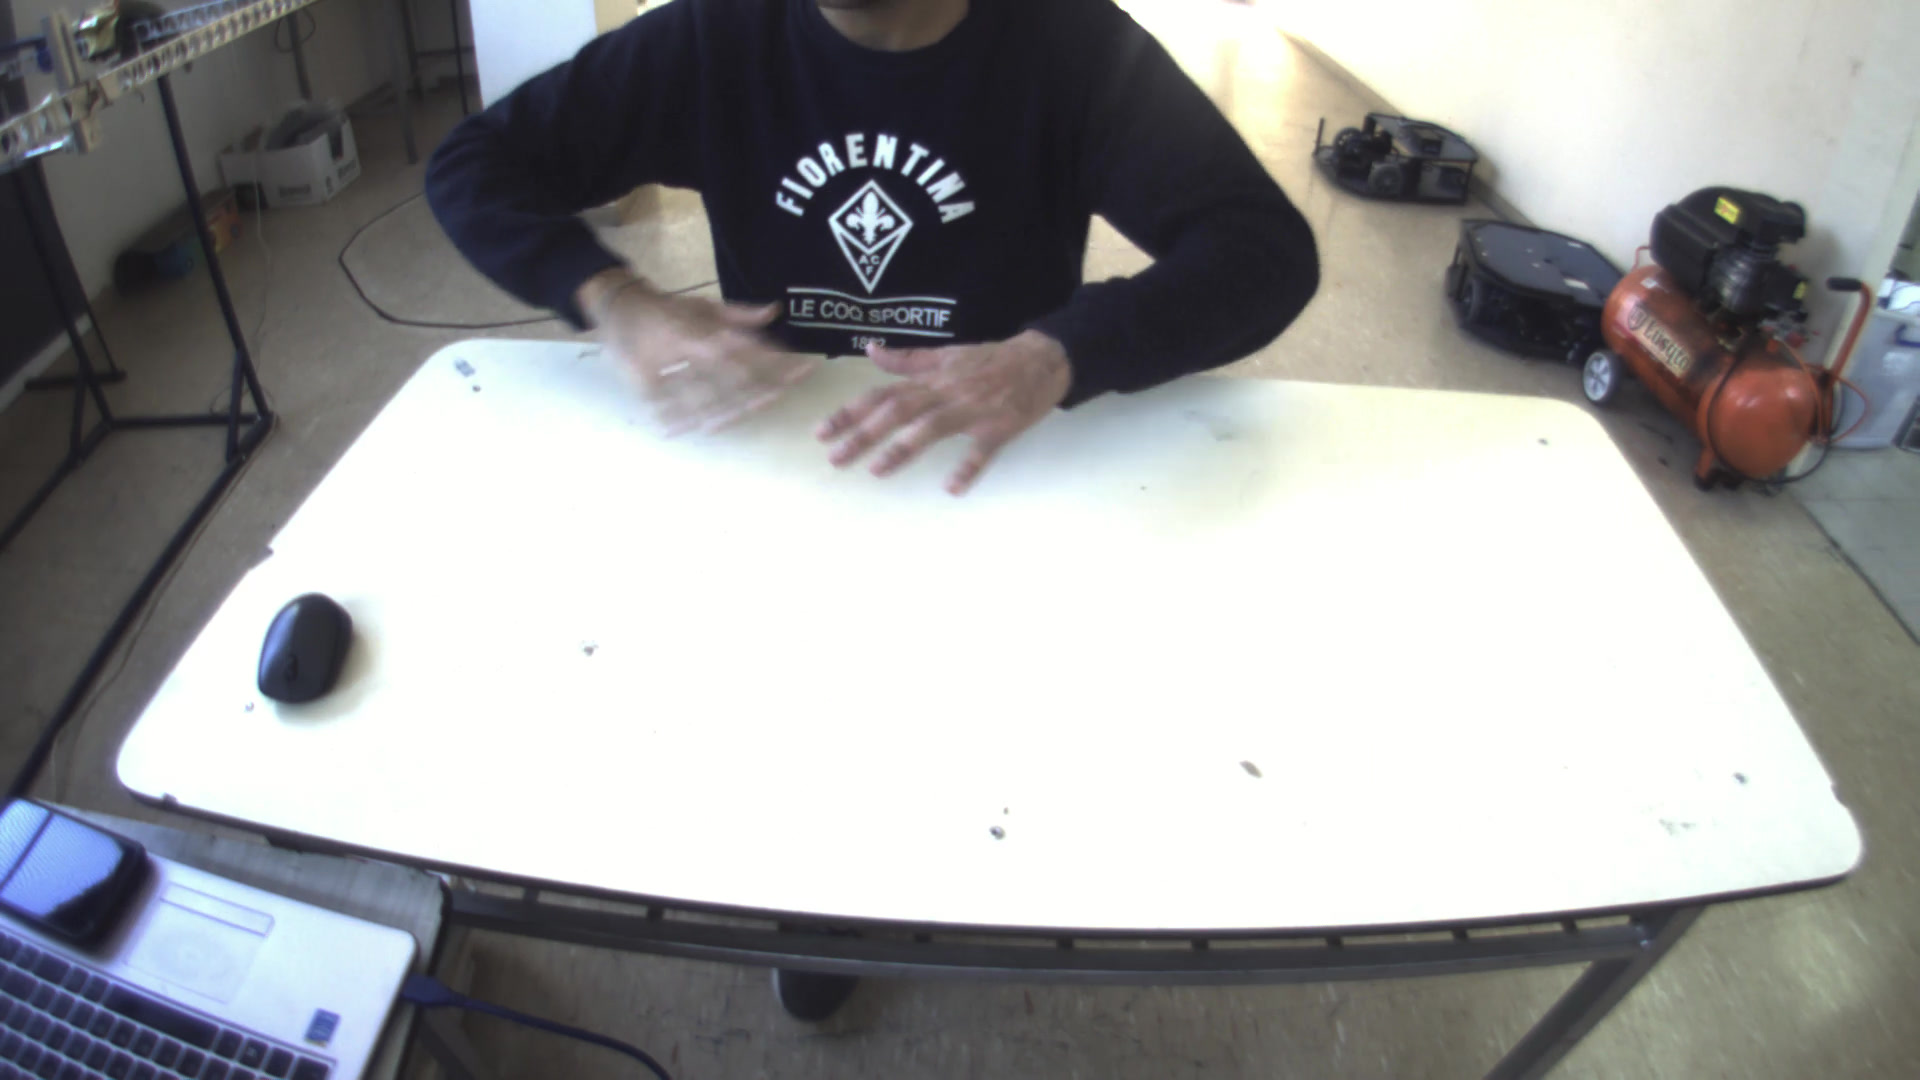hand: (800, 316, 1065, 495), (563, 256, 818, 436)
